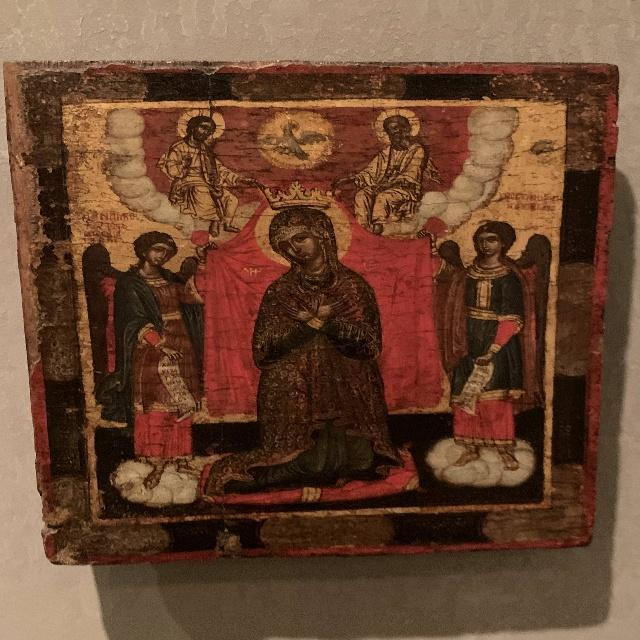angel: (418, 210, 552, 487), (99, 221, 226, 491)
aura: (258, 196, 358, 269), (110, 223, 188, 271), (453, 210, 526, 259), (175, 109, 229, 143), (372, 106, 420, 143)
cloud: (438, 106, 522, 226), (110, 447, 219, 504), (425, 427, 528, 485), (98, 115, 148, 218)
crown: (261, 186, 342, 212)
dove: (259, 110, 340, 168)
mary: (246, 183, 401, 486)
saint: (341, 106, 441, 224), (170, 108, 247, 231)
wing: (176, 257, 214, 371), (521, 235, 544, 399), (97, 244, 119, 395), (433, 240, 467, 280)
